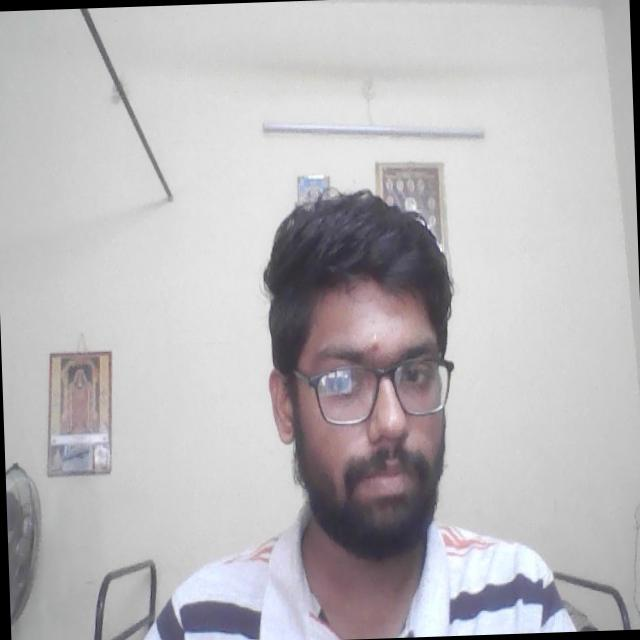Focused: (303, 300, 458, 530)
